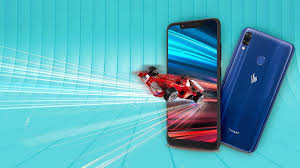vsmart: (203, 25, 295, 152)
